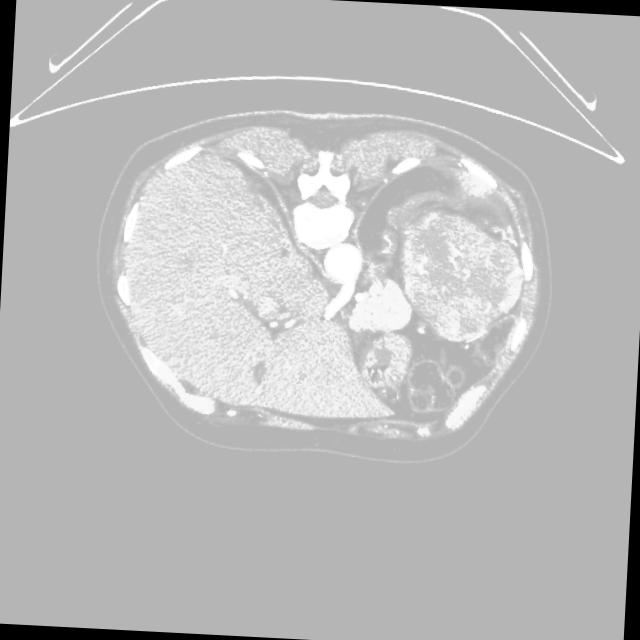TUMOR: (306, 173, 554, 423)
